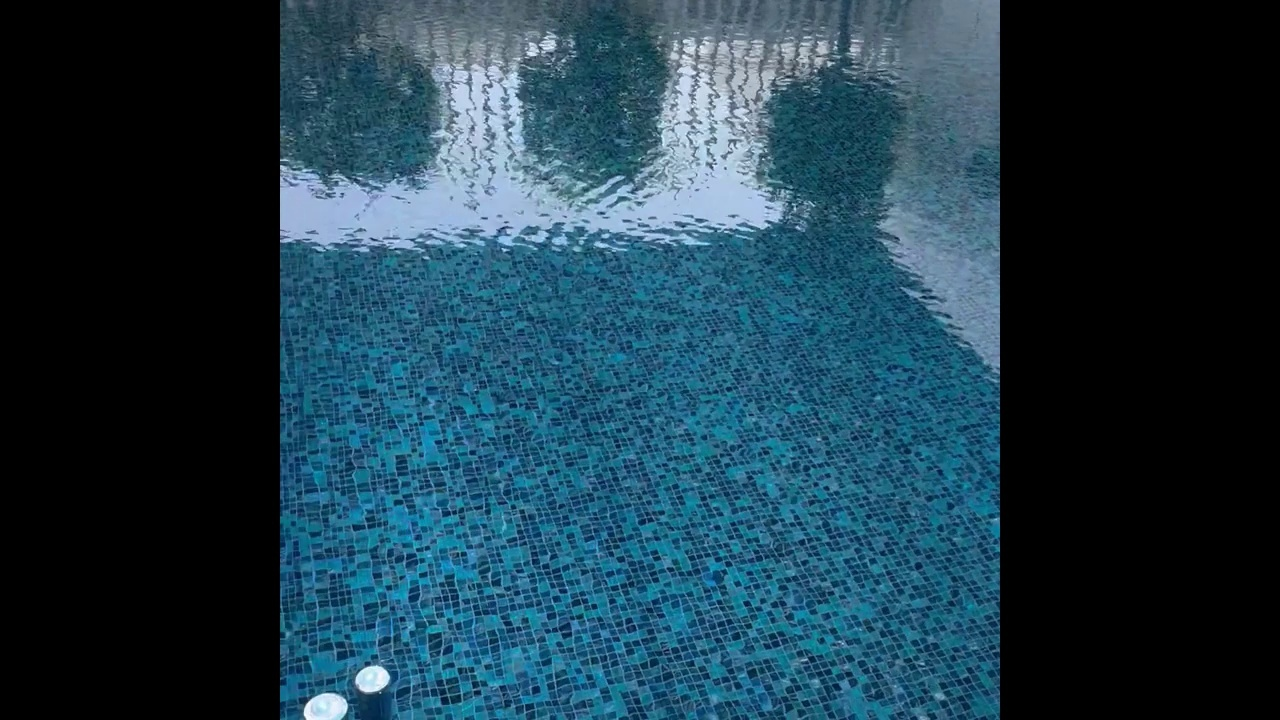debris: (348, 663, 396, 720), (298, 689, 346, 720)
